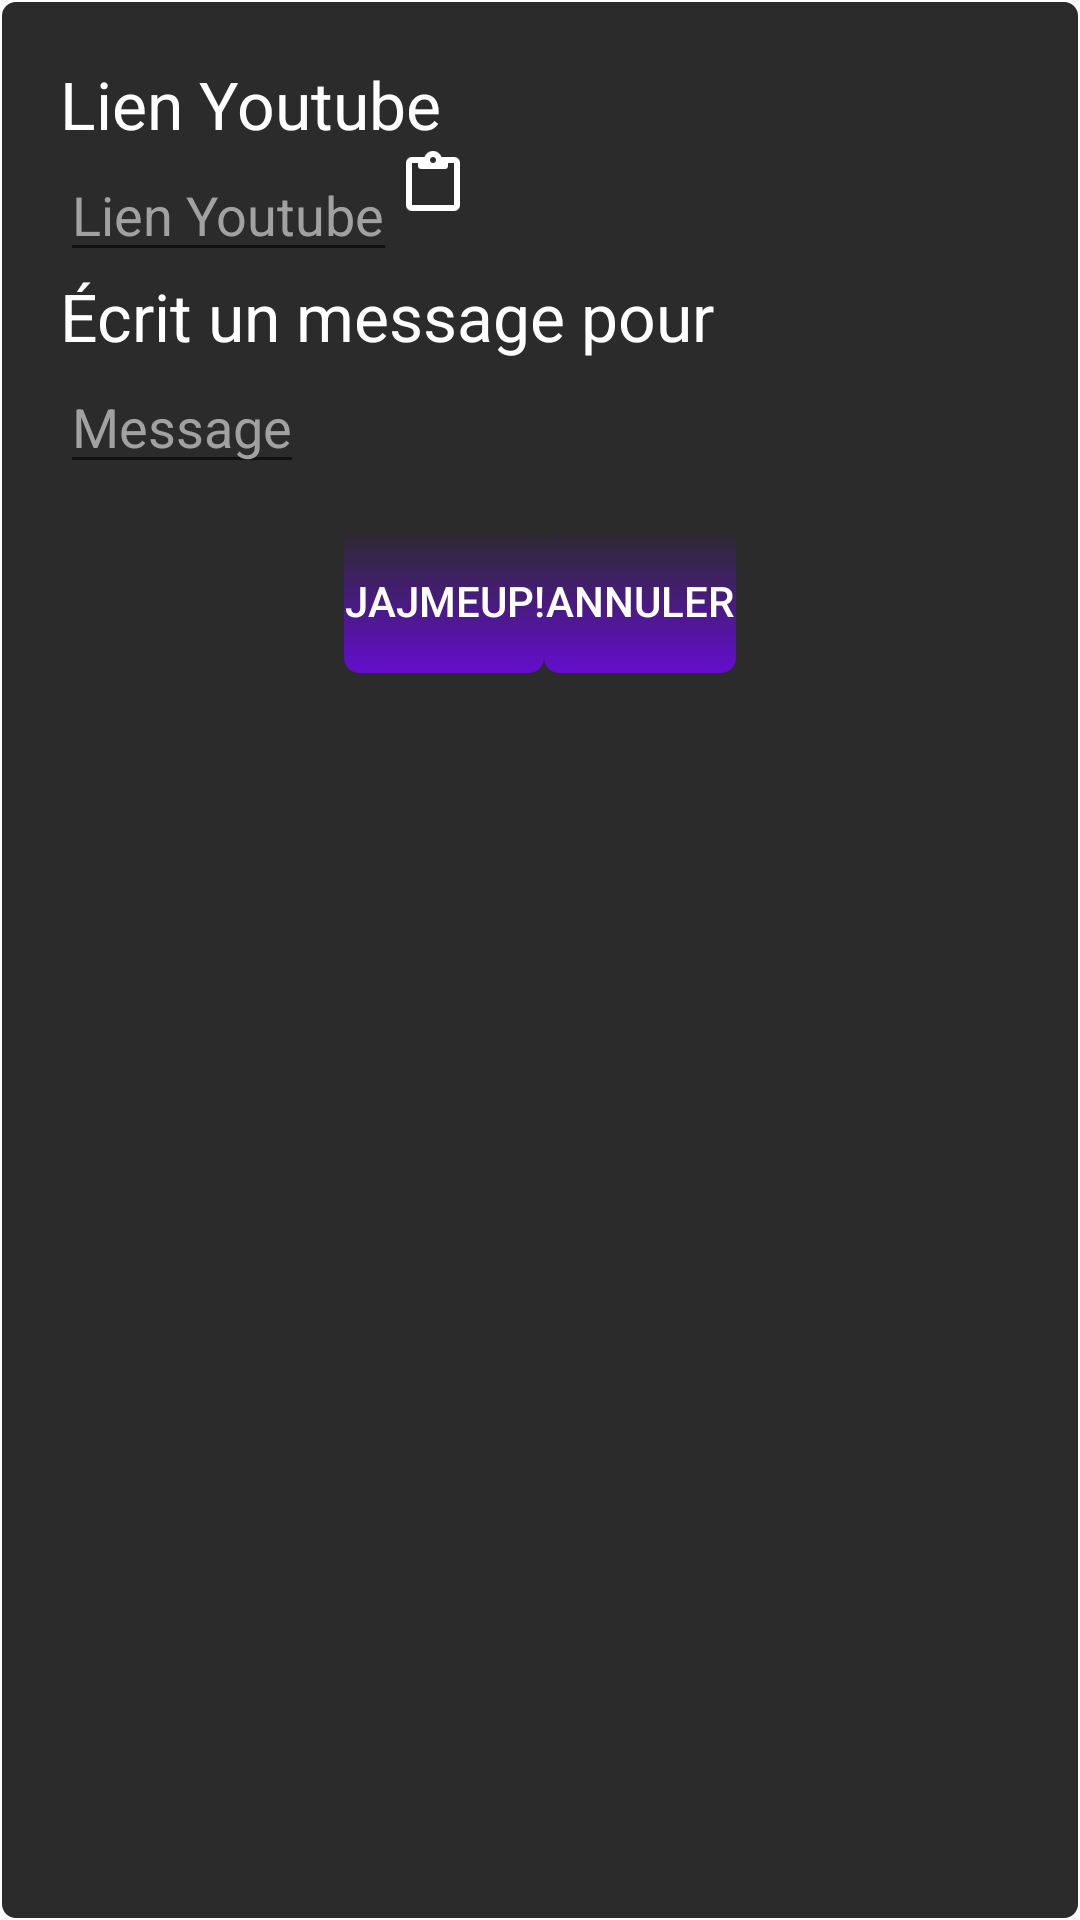

Screen size 1080x1920. Icon name, then its center in pixels as point (x, y):
paste: point (433, 181)
